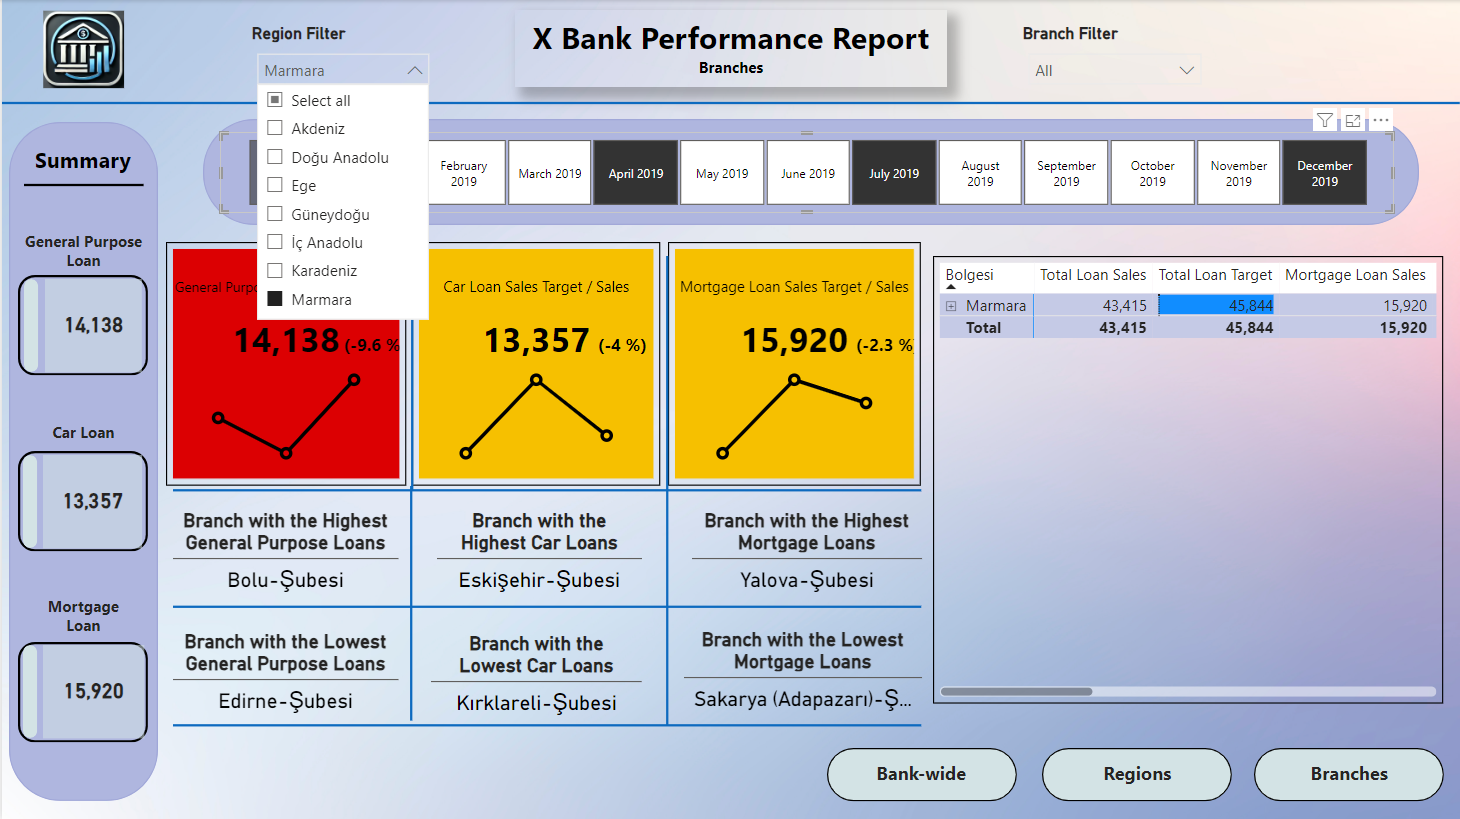

Layout of this report page (visuals, bound fields, positions):
{"tool":"powerbi","page":{"name":"Branches","canvas":[1280,720],"ordinal":2},"visuals":[{"type":"textbox","box":[450.4,8.8,379.3,68.5],"z":0},{"type":"shape","box":[0,58,1280.2,65],"z":1000},{"type":"shape","box":[6.1,107.1,130.8,596.2],"z":2000},{"type":"textbox","box":[14.2,123.3,114.2,39.2],"z":3000},{"type":"shape","box":[19.3,147.5,105.4,29.9],"z":4000},{"type":"shape","box":[14.2,241.7,114.2,88.3],"z":5000},{"type":"shape","box":[14.2,396.2,114.2,88.3],"z":6000},{"type":"shape","box":[14.2,563.3,114.2,88.3],"z":7000},{"type":"textbox","box":[7.5,197.5,127.5,49.2],"z":8000},{"type":"shape","box":[19.2,245,12.5,81.7],"z":9000},{"type":"shape","box":[18.3,399.5,12.5,81.7],"z":10000},{"type":"shape","box":[18.3,566.7,12.5,81.7],"z":11000},{"type":"textbox","box":[30,365.4,83.3,30.8],"z":12000},{"type":"image","box":[20,4.2,102.5,78.3],"z":13000},{"type":"textbox","box":[20,518.3,102.5,45],"z":14000},{"type":"shape","box":[1099.2,656.7,166.7,46.7],"z":15000},{"type":"shape","box":[913.3,656.7,166.7,46.7],"z":16000},{"type":"shape","box":[724.2,656.7,166.7,46.7],"z":17000},{"type":"textbox","box":[745.8,663.3,123.3,33.3],"z":18000},{"type":"textbox","box":[935,663.3,123.3,33.3],"z":19000},{"type":"textbox","box":[1120.8,663.3,123.3,33.3],"z":20000},{"type":"shape","box":[176.5,104.5,1067.7,93.1],"z":21000},{"type":"slicer","fields":{"Values":["Loans.Ay"]},"box":[191.4,115.9,1030.8,71.1],"z":22000},{"type":"card","fields":{"Values":["Measurements.General Purpose Loan Sales"]},"box":[37.8,245,85.2,81.7],"z":23000},{"type":"card","fields":{"Values":["Measurements.Car Loan Sales"]},"box":[36,399.5,86.9,81.7],"z":24000},{"type":"card","fields":{"Values":["Measurements.Mortgage Loan Sales"]},"box":[36,566.3,88.7,81.7],"z":25000},{"type":"slicer","title":"Region Filter","fields":{"Values":["Branches.Bolgesi"]},"box":[214,21.1,171.1,56.1],"z":26000},{"type":"KPIStatusWithHistory1446562283967","title":"Car Loan Sales","fields":{"Values":["Measurements.Car Loan Sales"],"Targets":["Measurements.Car Loan Total Target"],"Category":["Loans.Ay"]},"box":[360,212.7,218.2,213.6],"z":27000},{"type":"KPIStatusWithHistory1446562283967","title":"General Purpose Loan Sales","fields":{"Values":["Measurements.General Purpose Loan Sales"],"Targets":["Measurements.General Purpose Loan Total Target"],"Category":["Loans.Ay"]},"box":[143.6,212.7,210.9,213.6],"z":28000},{"type":"KPIStatusWithHistory1446562283967","title":"Mortgage Loan Sales ","fields":{"Values":["Measurements.Mortgage Loan Sales"],"Targets":["Measurements.Mortgage Loan Total Target"],"Category":["Loans.Ay"]},"box":[584.5,212.7,221.8,213.6],"z":29000},{"type":"card","title":"Branch with the Highest General Purpose Loans","fields":{"Values":["Min(Branches.Sube Adı)"]},"box":[150.4,446.5,197.7,80.2],"z":30000},{"type":"card","title":"Branch with the Highest Mortgage Loans","fields":{"Values":["Min(Branches.Sube Adı)"]},"box":[605.6,446.5,201.5,79.3],"z":31000},{"type":"card","title":"Branch with the Highest Car Loans","fields":{"Values":["Min(Branches.Sube Adı)"]},"box":[382.3,446.5,179.8,79.3],"z":32000},{"type":"card","title":"Branch with the Lowest General Purpose Loans","fields":{"Values":["Min(Branches.Sube Adı)"]},"box":[150.4,552.9,197.7,80.2],"z":33000},{"type":"card","title":"Branch with the Lowest Mortgage Loans","fields":{"Values":["Min(Branches.Sube Adı)"]},"box":[598.6,551.1,208.5,79.3],"z":34000},{"type":"card","title":"Branch with the Lowest Car Loans","fields":{"Values":["Min(Branches.Sube Adı)"]},"box":[376.8,554.7,185.2,79.3],"z":35000},{"type":"shape","box":[150.1,423.6,657.2,14.6],"z":36000},{"type":"shape","box":[150.1,630.8,657.2,12.8],"z":37000},{"type":"shape","box":[150.1,525.5,657.2,15.4],"z":38000},{"type":"shape","box":[578.2,224.5,12.7,411.8],"z":39000},{"type":"shape","box":[354.3,426.7,10.9,206.4],"z":40000},{"type":"shape","box":[354.6,224.2,10.9,207.5],"z":41000},{"type":"pivotTable","fields":{"Rows":["Branches.Bolgesi","Branches.Sube Adı"],"Values":["Measurements.Total Loan Sales","Measurements.Total Loan Target","Measurements.Mortgage Loan Sales","Measurements.Mortgage Loan Total Target","Measurements.General Purpose Loan Sales","Measurements.General Purpose Loan Total Target","Measurements.Car Loan Sales","Measurements.Car Loan Total Target"]},"box":[817.3,224.5,448.2,392.7],"z":42000},{"type":"slicer","title":"Branch Filter","fields":{"Values":["Branches.Sube Adı"]},"box":[890.9,20.9,171.8,56.4],"z":43000}]}

Visuals, with their boxes in screenshot pixels (x1, y1, x2, y2), scaled from the page's 1280x720 canvas onto the 1460x819 screenshot:
textbox: [514,10,946,88]
shape: [0,66,1459,140]
shape: [7,122,156,800]
textbox: [16,140,146,185]
shape: [22,168,142,202]
shape: [16,275,146,375]
shape: [16,451,146,551]
shape: [16,641,146,741]
textbox: [9,225,154,281]
shape: [22,279,36,372]
shape: [21,454,35,547]
shape: [21,645,35,738]
textbox: [34,416,129,451]
image: [23,5,140,94]
textbox: [23,590,140,641]
shape: [1254,747,1444,800]
shape: [1042,747,1232,800]
shape: [826,747,1016,800]
textbox: [851,755,991,792]
textbox: [1066,755,1207,792]
textbox: [1278,755,1419,792]
shape: [201,119,1419,225]
slicer - Loans.Ay: [218,132,1394,213]
card - Measurements.General Purpose Loan Sales: [43,279,140,372]
card - Measurements.Car Loan Sales: [41,454,140,547]
card - Measurements.Mortgage Loan Sales: [41,644,142,737]
"Region Filter" slicer: [244,24,439,88]
"Car Loan Sales" KPIStatusWithHistory1446562283967: [411,242,660,485]
"General Purpose Loan Sales" KPIStatusWithHistory1446562283967: [164,242,404,485]
"Mortgage Loan Sales " KPIStatusWithHistory1446562283967: [667,242,920,485]
"Branch with the Highest General Purpose Loans" card: [172,508,397,599]
"Branch with the Highest Mortgage Loans" card: [691,508,921,598]
"Branch with the Highest Car Loans" card: [436,508,641,598]
"Branch with the Lowest General Purpose Loans" card: [172,629,397,720]
"Branch with the Lowest Mortgage Loans" card: [683,627,921,717]
"Branch with the Lowest Car Loans" card: [430,631,641,721]
shape: [171,482,921,498]
shape: [171,718,921,732]
shape: [171,598,921,615]
shape: [660,255,674,724]
shape: [404,485,417,720]
shape: [404,255,417,491]
pivotTable - Branches.Bolgesi x Branches.Sube Adı: [932,255,1443,702]
"Branch Filter" slicer: [1016,24,1212,88]
